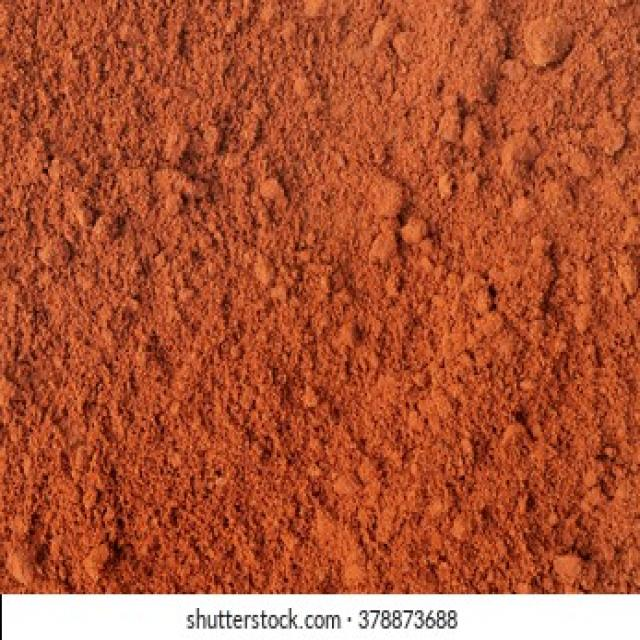Red Soil: (45, 61, 588, 528)
